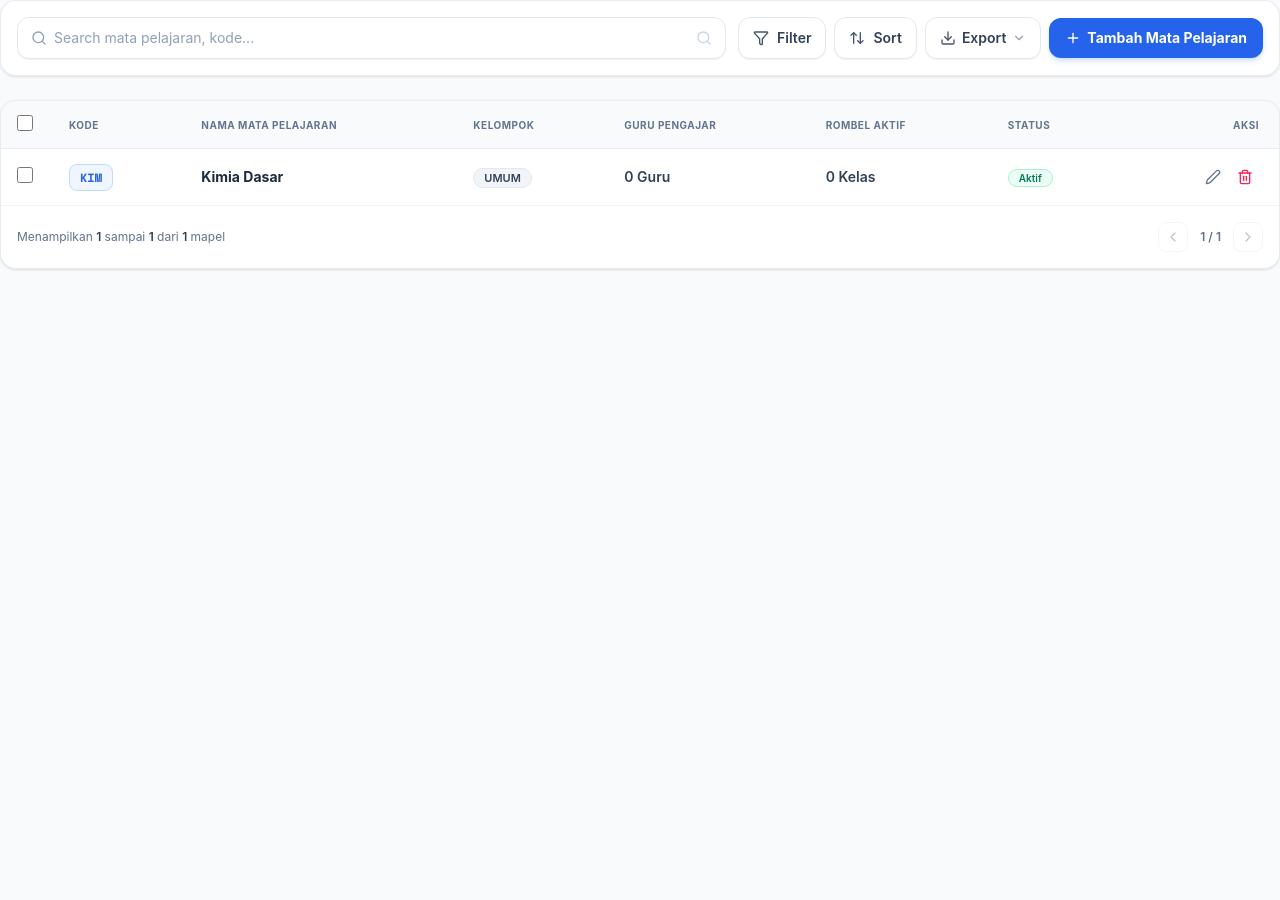
Scenario: Human Review Correction: Multi-Selection & Lifecycle Protection (Item 15 Test Suite) › 3. Mata Pelajaran Dependency & Lifecycle Tests › verifies dependency check and allows hard delete only if no dependencies
The image size is (1280, 900).
Click the button titled "Hapus Mata Pelajaran" at (1245, 177), box [1231,163,1259,191]
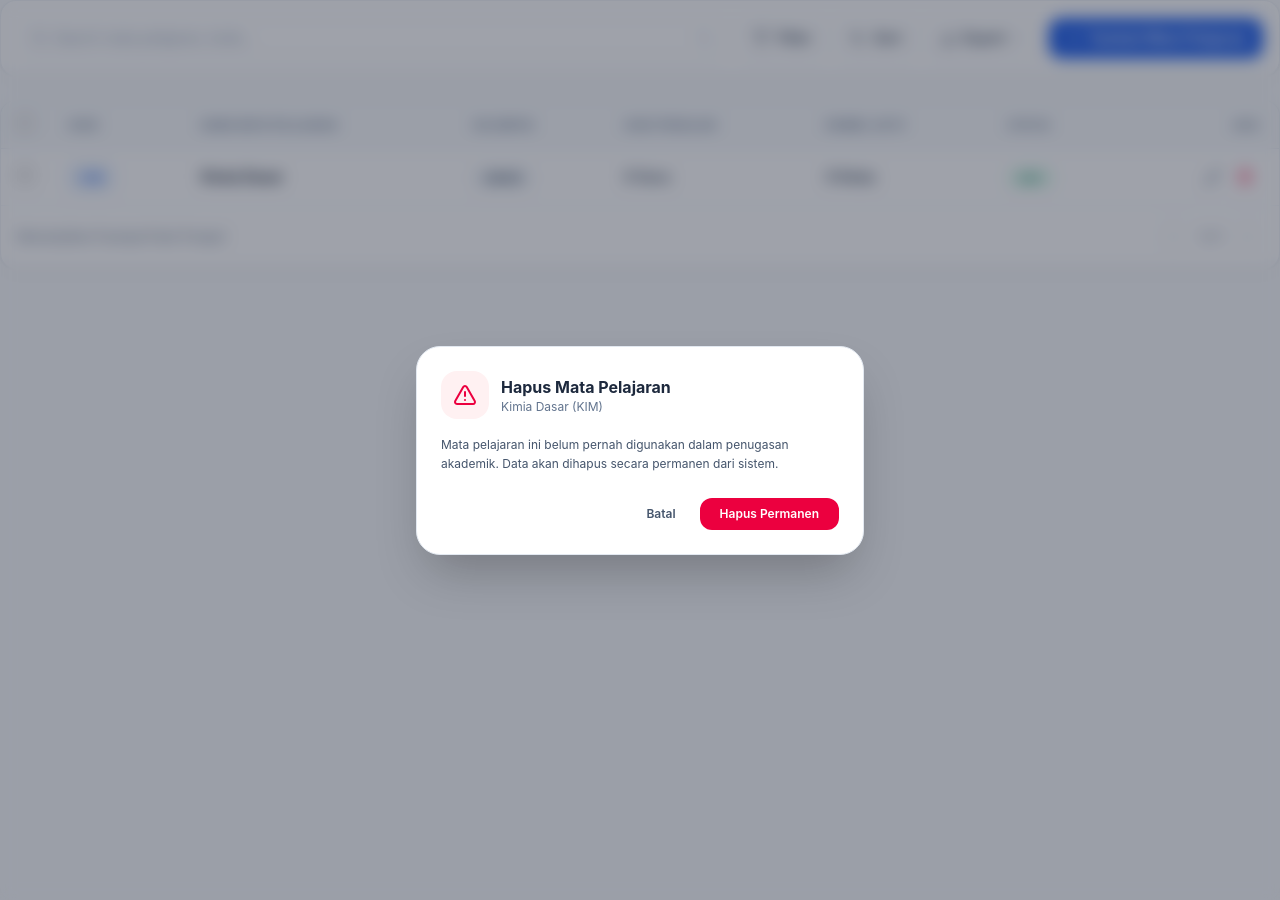
Expected: the heading "Hapus Mata Pelajaran" is shown, [501,374,671,398]
Expected: the text "belum pernah digunakan dalam penugasan akademik" is shown, [441,436,789,471]
Expected: the button "Hapus Permanen" is shown, [700,498,839,530]
